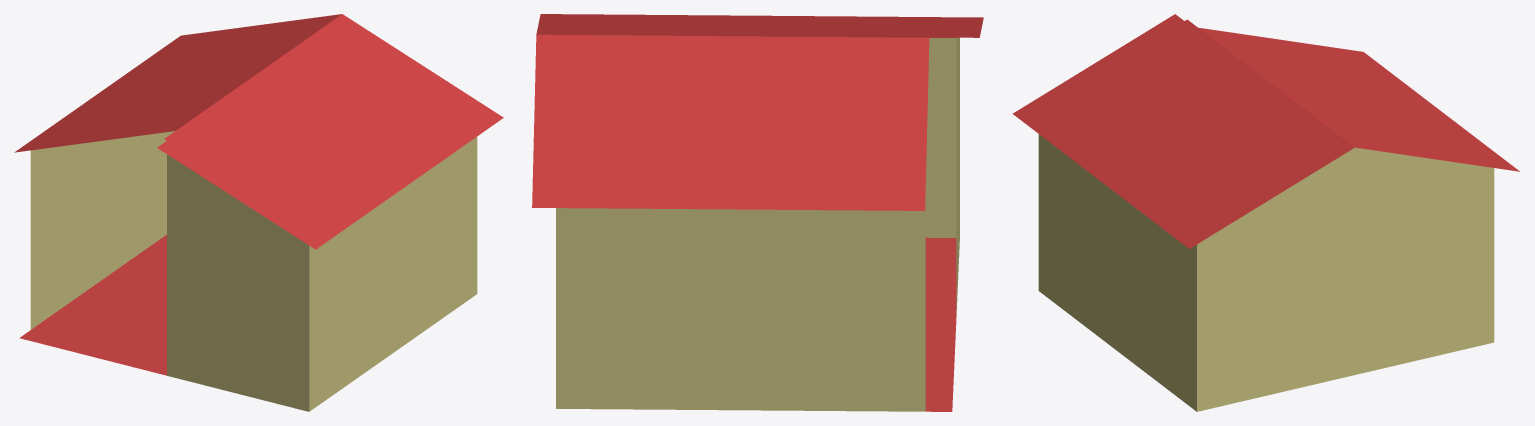
3 renders of one model, left to right at view 1: azimuth 30°, elevation 25°; view 2: azimuth 150°, elevation 25°; view 3: azimuth 270°, elevation 25°, orthographic. The views are drawn at different scales.
Size of the model in its own units: 18.47 by 19.68 by 10.12.
